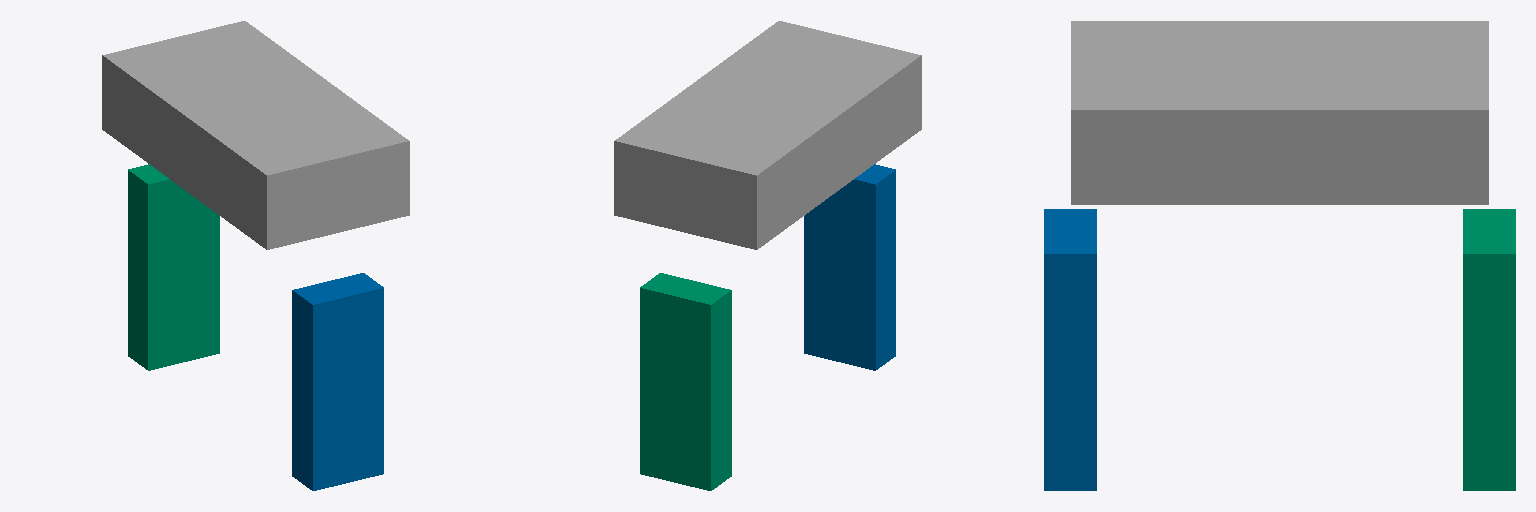
robot.urdf — synthetic_grasping_robot:
<?xml version="1.0"?>
<!--
  A gantry arm carrying a two-fingered pincer, used to exercise grasping without
  depending on a real robot's ROS package. Three sliding joints put the pincer anywhere
  over the Montessori table, a three-axis wrist turns it, and the two finger joints open
  and close it. The pincer and its fingertips carry visual geometry as well as
  collision, so a video of a run shows the hand that is doing it.
-->
<robot name="synthetic_grasping_robot">
  <link name="base_link"/>

  <link name="bridge_link">
    <inertial>
      <mass value="1.0"/>
      <inertia ixx="0.01" ixy="0" ixz="0" iyy="0.01" iyz="0" izz="0.01"/>
    </inertial>
  </link>

  <link name="carriage_link">
    <inertial>
      <mass value="1.0"/>
      <inertia ixx="0.01" ixy="0" ixz="0" iyy="0.01" iyz="0" izz="0.01"/>
    </inertial>
  </link>

  <link name="lift_link">
    <inertial>
      <mass value="1.0"/>
      <inertia ixx="0.01" ixy="0" ixz="0" iyy="0.01" iyz="0" izz="0.01"/>
    </inertial>
  </link>

  <link name="wrist_roll_link">
    <inertial>
      <mass value="0.2"/>
      <inertia ixx="0.001" ixy="0" ixz="0" iyy="0.001" iyz="0" izz="0.001"/>
    </inertial>
  </link>

  <link name="wrist_pitch_link">
    <inertial>
      <mass value="0.2"/>
      <inertia ixx="0.001" ixy="0" ixz="0" iyy="0.001" iyz="0" izz="0.001"/>
    </inertial>
  </link>

  <link name="wrist_yaw_link">
    <inertial>
      <mass value="0.2"/>
      <inertia ixx="0.001" ixy="0" ixz="0" iyy="0.001" iyz="0" izz="0.001"/>
    </inertial>
  </link>

  <link name="pincer_link">
    <inertial>
      <mass value="0.5"/>
      <inertia ixx="0.001" ixy="0" ixz="0" iyy="0.001" iyz="0" izz="0.001"/>
    </inertial>
    <visual>
      <origin xyz="0 0 0.02"/>
      <geometry>
        <box size="0.04 0.08 0.02"/>
      </geometry>
    </visual>
    <collision>
      <origin xyz="0 0 0.02"/>
      <geometry>
        <box size="0.04 0.08 0.02"/>
      </geometry>
    </collision>
  </link>

  <link name="grasp_link">
    <inertial>
      <mass value="0.01"/>
      <inertia ixx="0.00001" ixy="0" ixz="0" iyy="0.00001" iyz="0" izz="0.00001"/>
    </inertial>
  </link>

  <link name="left_finger_link">
    <inertial>
      <mass value="0.05"/>
      <inertia ixx="0.0001" ixy="0" ixz="0" iyy="0.0001" iyz="0" izz="0.0001"/>
    </inertial>
  </link>

  <link name="left_fingertip_link">
    <inertial>
      <mass value="0.05"/>
      <inertia ixx="0.0001" ixy="0" ixz="0" iyy="0.0001" iyz="0" izz="0.0001"/>
    </inertial>
    <visual>
      <geometry>
        <box size="0.02 0.01 0.05"/>
      </geometry>
    </visual>
    <collision>
      <geometry>
        <box size="0.02 0.01 0.05"/>
      </geometry>
    </collision>
  </link>

  <link name="right_finger_link">
    <inertial>
      <mass value="0.05"/>
      <inertia ixx="0.0001" ixy="0" ixz="0" iyy="0.0001" iyz="0" izz="0.0001"/>
    </inertial>
  </link>

  <link name="right_fingertip_link">
    <inertial>
      <mass value="0.05"/>
      <inertia ixx="0.0001" ixy="0" ixz="0" iyy="0.0001" iyz="0" izz="0.0001"/>
    </inertial>
    <visual>
      <geometry>
        <box size="0.02 0.01 0.05"/>
      </geometry>
    </visual>
    <collision>
      <geometry>
        <box size="0.02 0.01 0.05"/>
      </geometry>
    </collision>
  </link>

  <joint name="bridge_joint" type="prismatic">
    <parent link="base_link"/>
    <child link="bridge_link"/>
    <axis xyz="1 0 0"/>
    <limit lower="-2" upper="2" effort="100" velocity="1"/>
  </joint>

  <joint name="carriage_joint" type="prismatic">
    <parent link="bridge_link"/>
    <child link="carriage_link"/>
    <axis xyz="0 1 0"/>
    <limit lower="-2" upper="2" effort="100" velocity="1"/>
  </joint>

  <joint name="lift_joint" type="prismatic">
    <parent link="carriage_link"/>
    <child link="lift_link"/>
    <axis xyz="0 0 1"/>
    <limit lower="0" upper="2" effort="100" velocity="1"/>
  </joint>

  <joint name="wrist_roll_joint" type="revolute">
    <parent link="lift_link"/>
    <child link="wrist_roll_link"/>
    <axis xyz="1 0 0"/>
    <limit lower="-3.15" upper="3.15" effort="50" velocity="1"/>
  </joint>

  <joint name="wrist_pitch_joint" type="revolute">
    <parent link="wrist_roll_link"/>
    <child link="wrist_pitch_link"/>
    <axis xyz="0 1 0"/>
    <limit lower="-3.15" upper="3.15" effort="50" velocity="1"/>
  </joint>

  <joint name="wrist_yaw_joint" type="revolute">
    <parent link="wrist_pitch_link"/>
    <child link="wrist_yaw_link"/>
    <axis xyz="0 0 1"/>
    <limit lower="-3.15" upper="3.15" effort="50" velocity="1"/>
  </joint>

  <joint name="pincer_joint" type="fixed">
    <parent link="wrist_yaw_link"/>
    <child link="pincer_link"/>
  </joint>

  <joint name="grasp_joint" type="fixed">
    <parent link="pincer_link"/>
    <child link="grasp_link"/>
    <origin xyz="0 0 -0.03"/>
  </joint>

  <joint name="left_finger_joint" type="prismatic">
    <parent link="pincer_link"/>
    <child link="left_finger_link"/>
    <origin xyz="0 0.04 0"/>
    <axis xyz="0 -1 0"/>
    <limit lower="0" upper="0.05" effort="50" velocity="1"/>
  </joint>

  <joint name="left_fingertip_joint" type="fixed">
    <parent link="left_finger_link"/>
    <child link="left_fingertip_link"/>
    <origin xyz="0 0 -0.03"/>
  </joint>

  <joint name="right_finger_joint" type="prismatic">
    <parent link="pincer_link"/>
    <child link="right_finger_link"/>
    <origin xyz="0 -0.04 0"/>
    <axis xyz="0 1 0"/>
    <limit lower="0" upper="0.05" effort="50" velocity="1"/>
  </joint>

  <joint name="right_fingertip_joint" type="fixed">
    <parent link="right_finger_link"/>
    <child link="right_fingertip_link"/>
    <origin xyz="0 0 -0.03"/>
  </joint>
</robot>

--- What the picture shows (computed from the rendered views, not written in the file) ---
The picture shows the robot from 3 angles, left to right: view 1: azimuth 30°, elevation 25°; view 2: azimuth 150°, elevation 25°; view 3: azimuth 270°, elevation 25°; orthographic projection.
Robot: synthetic_grasping_robot — 13 links, 12 joints (3 revolute, 5 prismatic, 4 fixed); root link base_link; default pose: all joints at 0.
Links seen in each view (by area): view 1: pincer_link, right_fingertip_link, left_fingertip_link; view 2: pincer_link, left_fingertip_link, right_fingertip_link; view 3: pincer_link, left_fingertip_link, right_fingertip_link.
Boxes of the visible links, x1,y1,x2,y2 form: pincer_link: (102,21,409,249); right_fingertip_link: (292,273,383,490); left_fingertip_link: (128,164,219,370); pincer_link: (614,21,921,249); left_fingertip_link: (640,273,731,490); right_fingertip_link: (804,164,895,370); pincer_link: (1071,21,1488,204); left_fingertip_link: (1463,209,1515,490); right_fingertip_link: (1044,209,1096,490).
Size in the robot's own frame: 0.04 by 0.09 by 0.085 metres.
Geometry: primitives only (box / cylinder / sphere), no mesh files.
